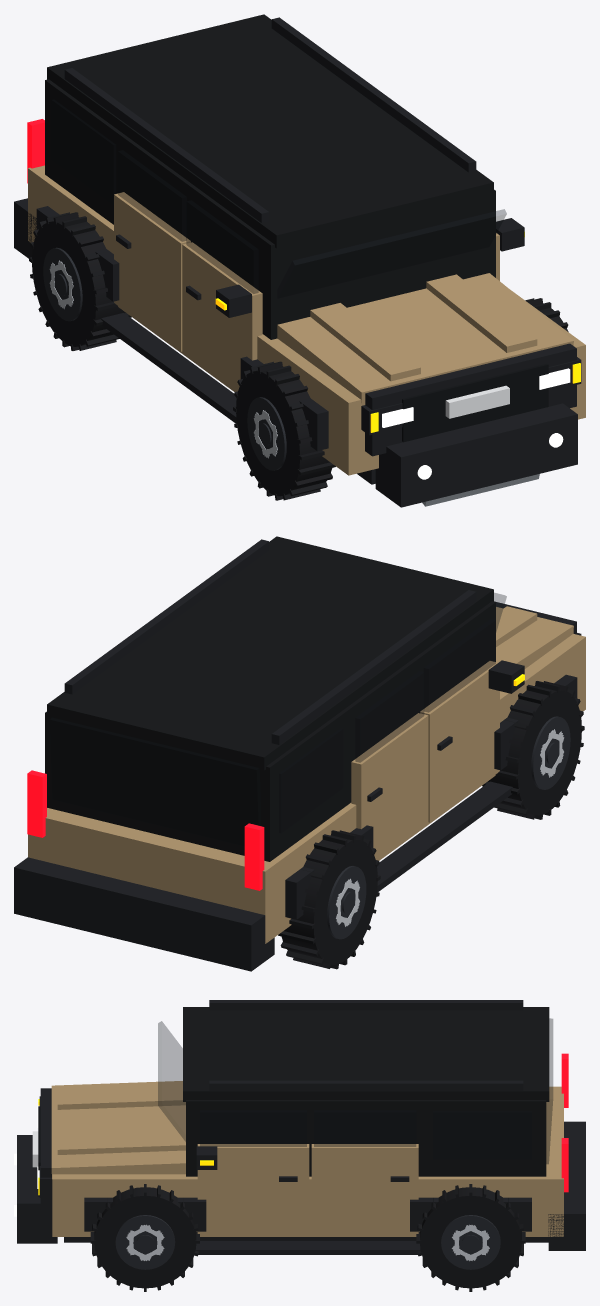
File: prado.glb
3 renders of one model, top to bottom at view 1: azimuth 30°, elevation 25°; view 2: azimuth 150°, elevation 25°; view 3: azimuth 270°, elevation 25°, orthographic. The views are drawn at different scales.
Parts seen in each view (by area): view 1: Body, Hood, Door_F_L, Door_R_L, Wheel_FL, Wheel_RL, Door_F_R; view 2: Body, Door_F_L, Door_R_L, Wheel_RL, Wheel_FL, Hood; view 3: Body, Door_F_R, Door_R_R, Hood, Wheel_RR, Wheel_FR.
Boxes of the visible parts, x1,y1,x2,y2 form: Body: (14, 14, 585, 507); Hood: (277, 273, 573, 405); Door_F_L: (182, 200, 262, 391); Door_R_L: (114, 150, 190, 351); Wheel_FL: (233, 361, 335, 500); Wheel_RL: (29, 212, 131, 350); Door_F_R: (496, 218, 524, 280); Body: (14, 536, 585, 971); Door_F_L: (420, 619, 524, 822); Door_R_L: (351, 671, 428, 860); Wheel_RL: (278, 830, 380, 969); Wheel_FL: (482, 681, 584, 819); Hood: (496, 606, 573, 668); Body: (14, 1000, 585, 1254); Door_F_R: (196, 1110, 309, 1234); Door_R_R: (311, 1110, 418, 1234); Hood: (51, 1081, 185, 1178); Wheel_RR: (416, 1184, 525, 1291); Wheel_FR: (90, 1184, 199, 1291).
Bounding box in the file's own units: 2.38 × 1.85 × 4.92.
